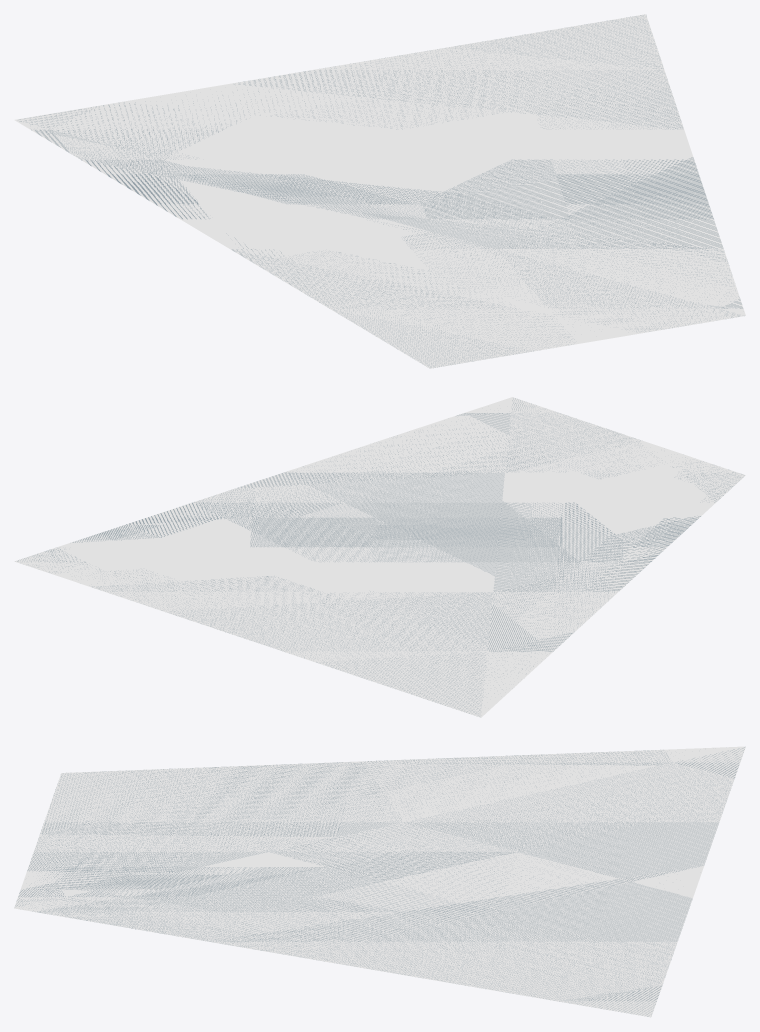
3 views of the same model, one above another, from view 1: azimuth 30°, elevation 25°; view 2: azimuth 150°, elevation 25°; view 3: azimuth 270°, elevation 25° (orthographic). The views are drawn at different scales.
Parts seen in each view (by area): view 1: Group1; view 2: Group1; view 3: Group1.
Boxes of the visible parts, x1,y1,x2,y2 form: Group1: [14, 14, 745, 368]; Group1: [14, 397, 745, 717]; Group1: [14, 746, 745, 1017].
Bounding box in the file's own units: 3.96 × 7.22e-16 × 4.52.
